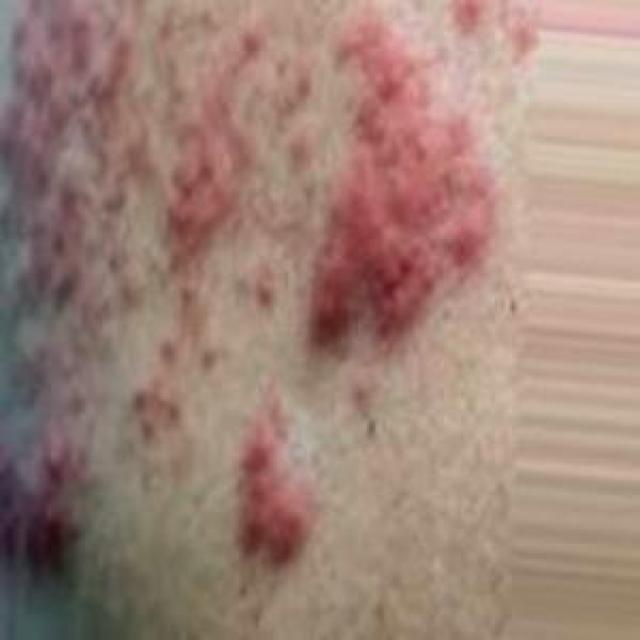Shingles: (0, 0, 494, 585)
